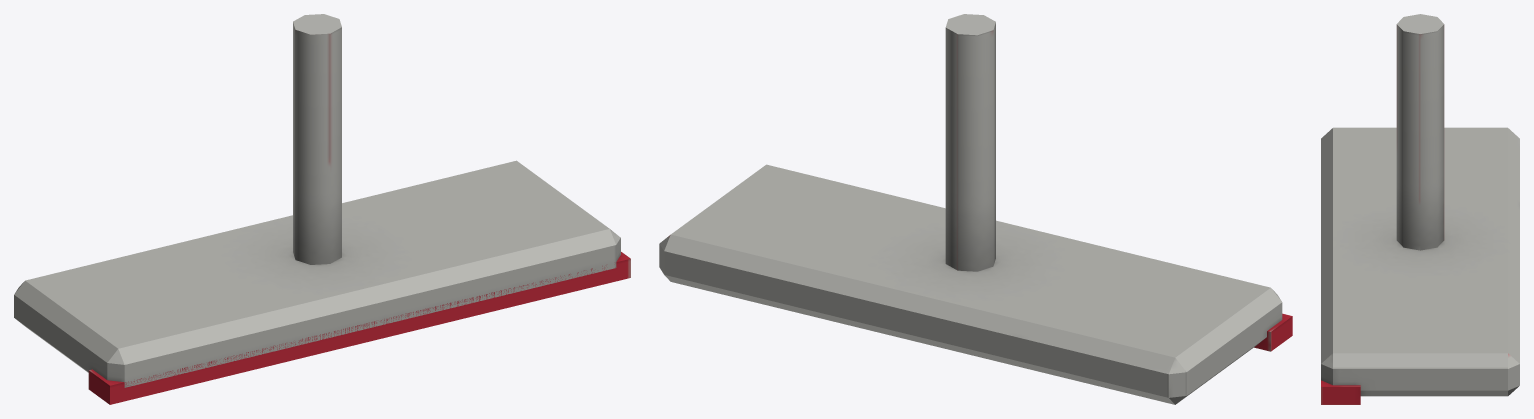
Rendered from ski_press.glb.
3 views of the same model, side by side, from view 1: azimuth 30°, elevation 25°; view 2: azimuth 150°, elevation 25°; view 3: azimuth 270°, elevation 25° (orthographic). The views are drawn at different scales.
Visible parts, largest first — view 1: ski_press; view 2: ski_press; view 3: ski_press.
Part boxes in pixels (bbox=[...]): ski_press: bbox=[14, 14, 630, 404]; ski_press: bbox=[659, 14, 1292, 404]; ski_press: bbox=[1321, 14, 1519, 404].
Size of the model in its own units: 1.42 by 0.725 by 0.5.
Materials: 1 (1 with a texture image).
